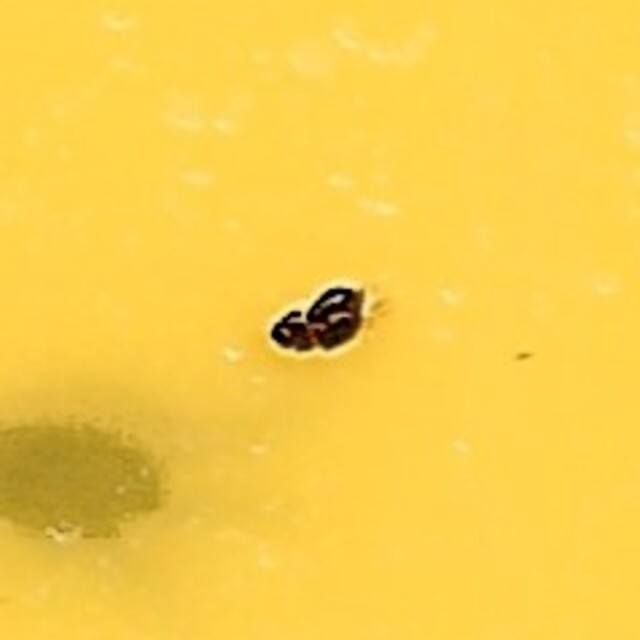Coleoptera: (269, 283, 371, 357)
